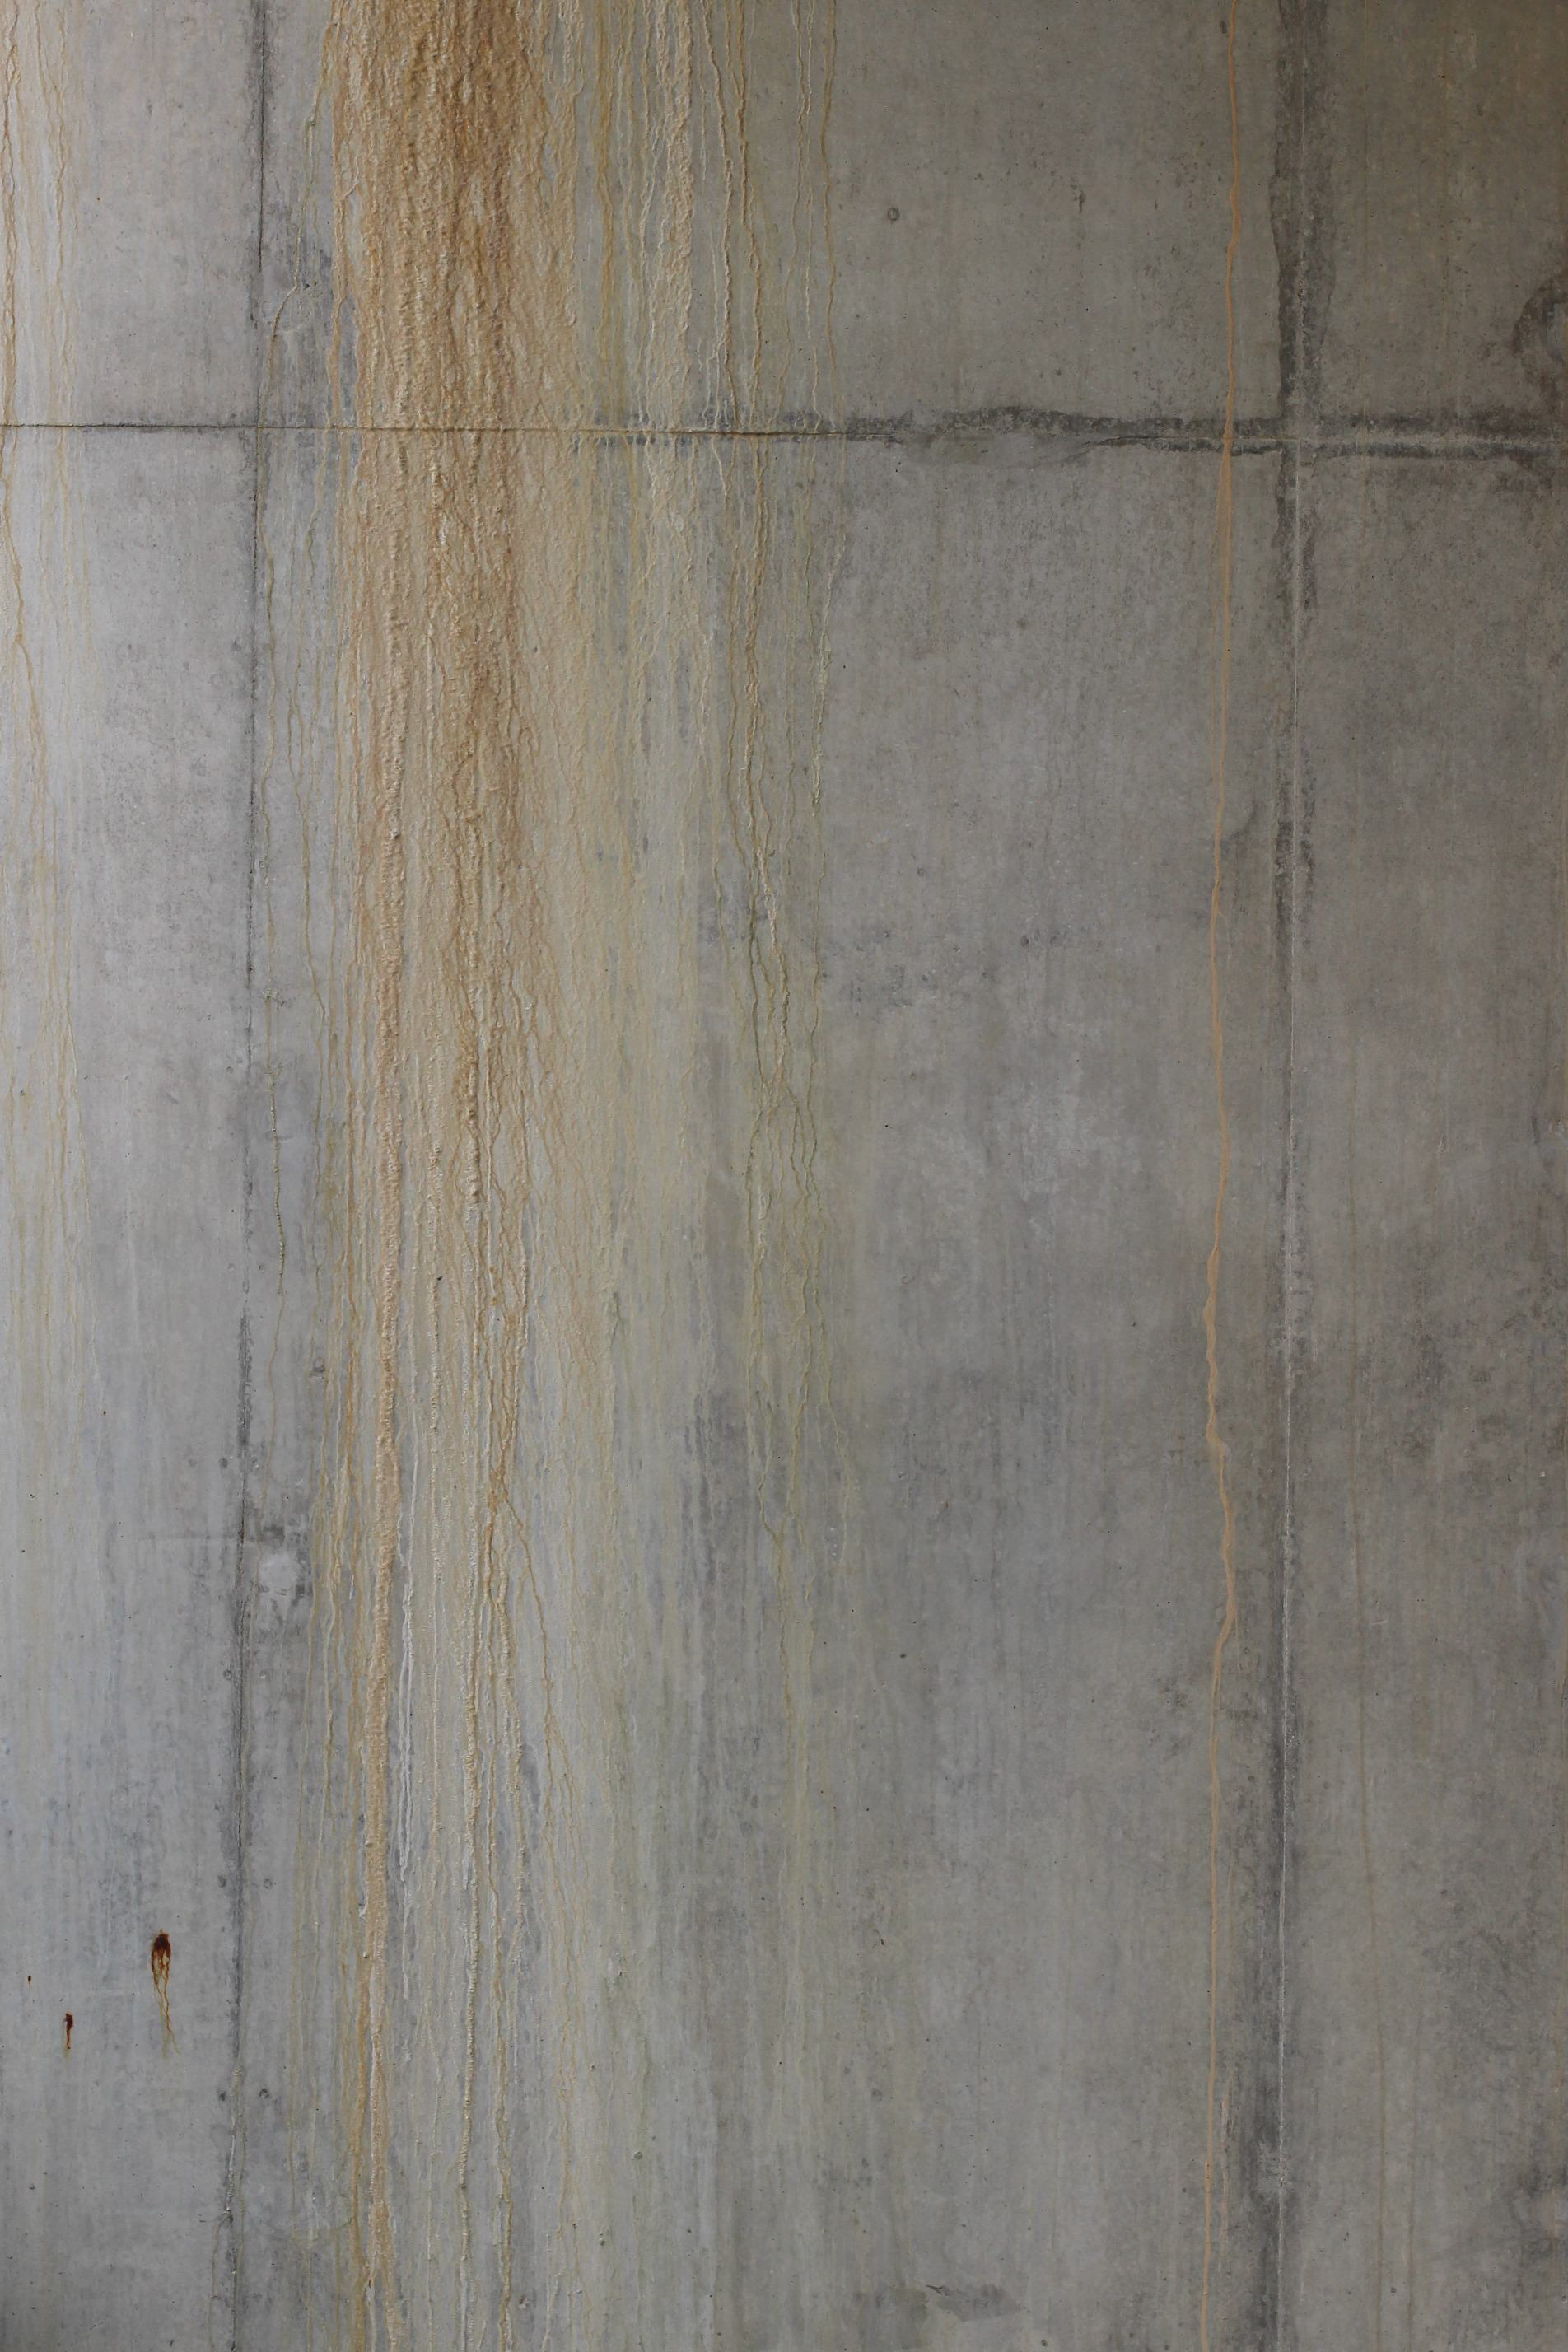Spalling: (317, 0, 835, 2352)
